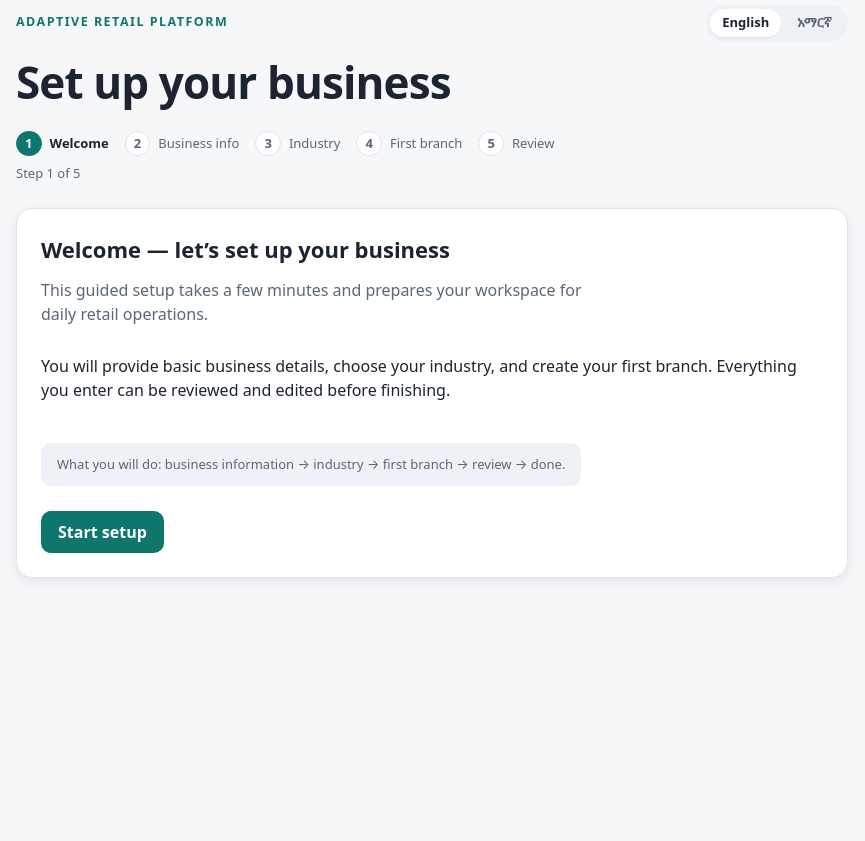
Test: OnboardingPage › accepts a valid optional phone and email
Click the button "Start setup": (102, 532) 41,511 -> 164,553
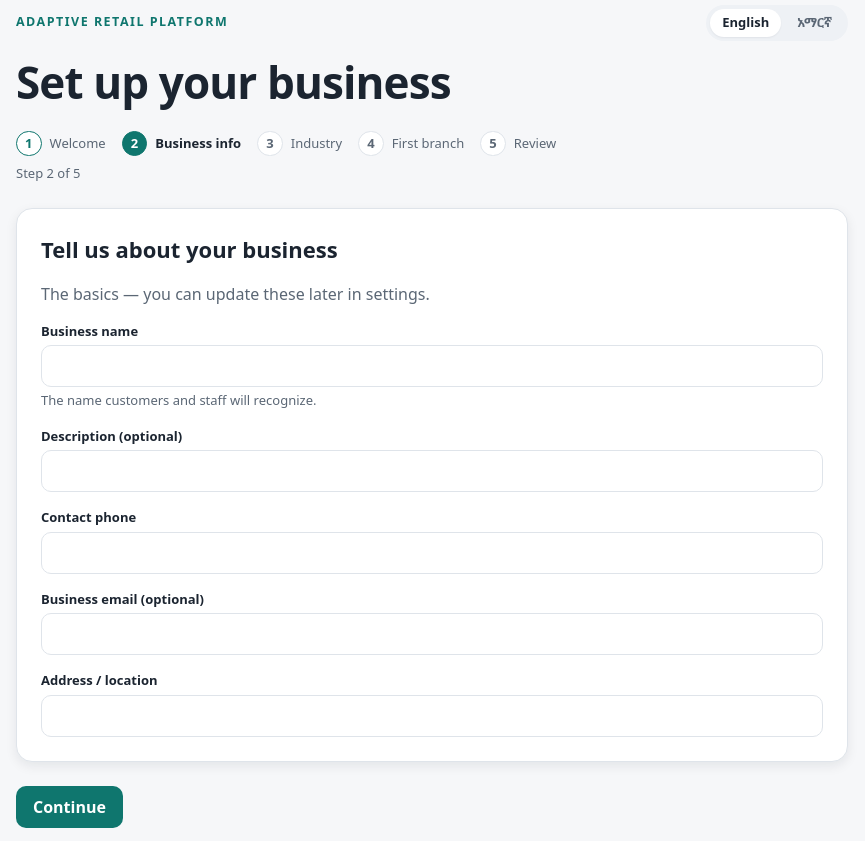
In the field labelled "Business name": (432, 366) 41,345 -> 823,387, type "Valid Name"
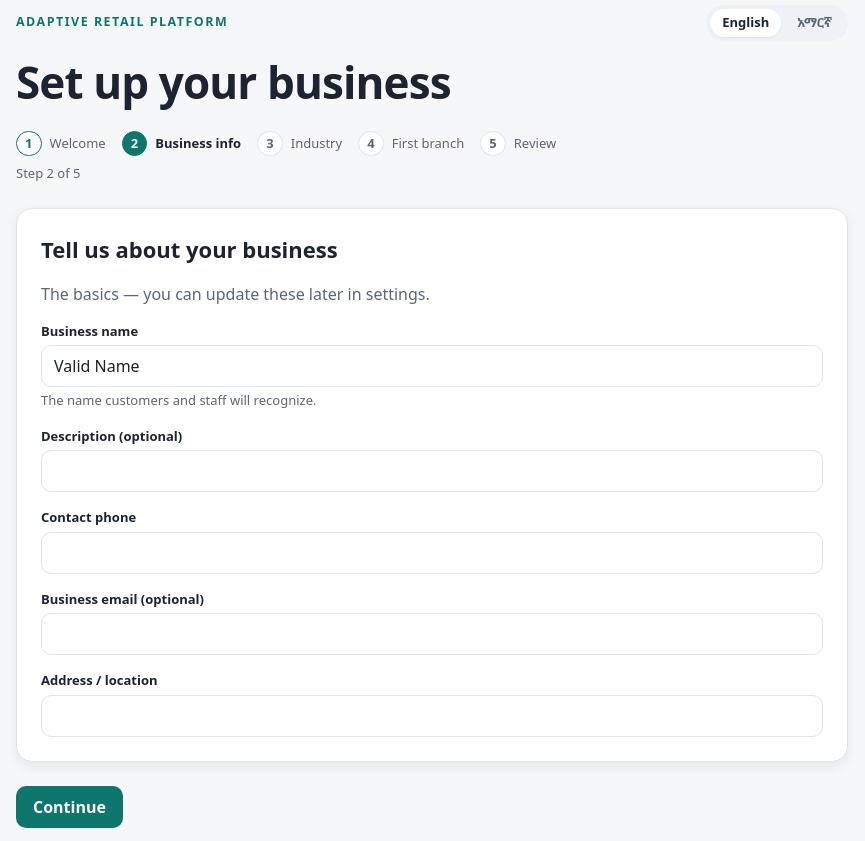
In the field labelled "Contact phone": (432, 553) 41,532 -> 823,574, type "+251 911 234 567"
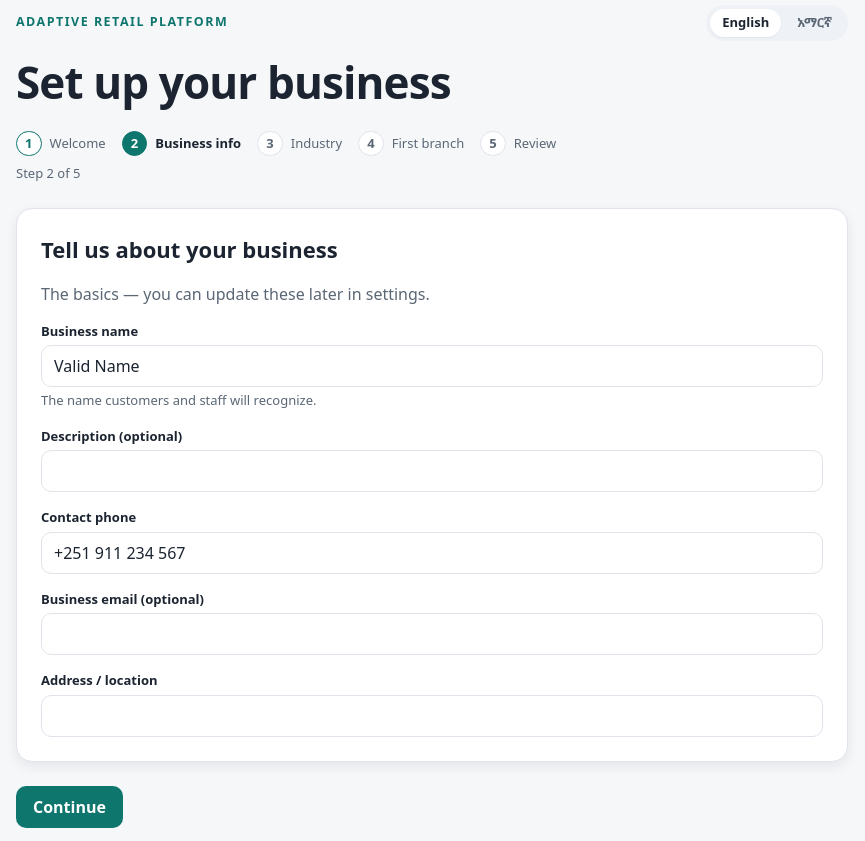
In the field labelled "Business email (optional)": (432, 634) 41,613 -> 823,655, type "owner@example.com"
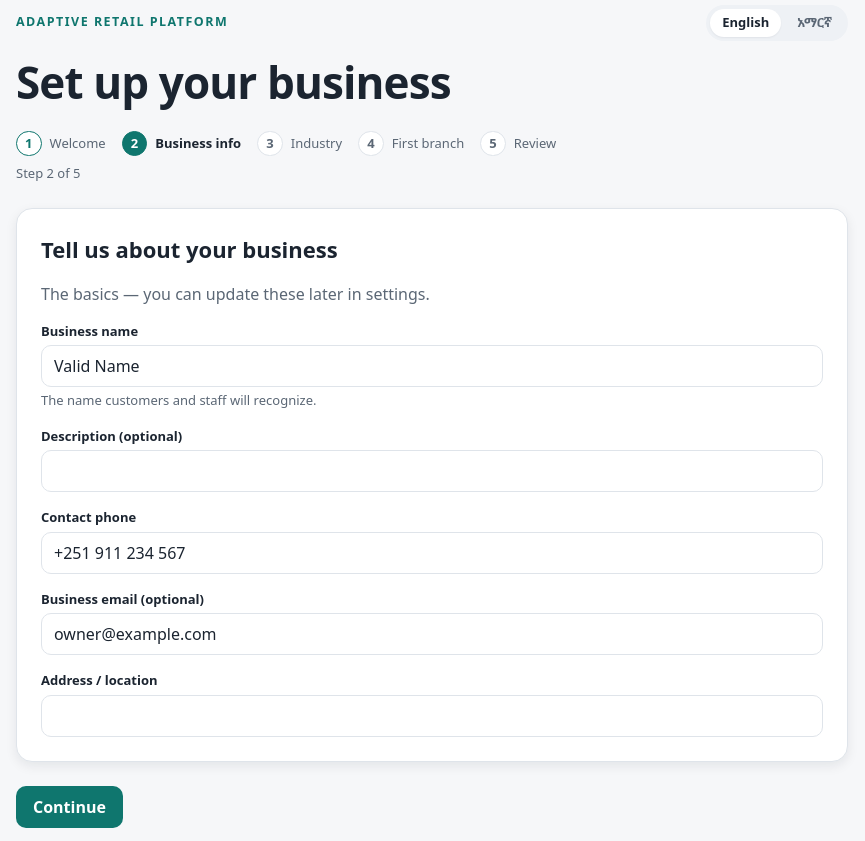
Click the button "Continue": (69, 807) 16,786 -> 123,828
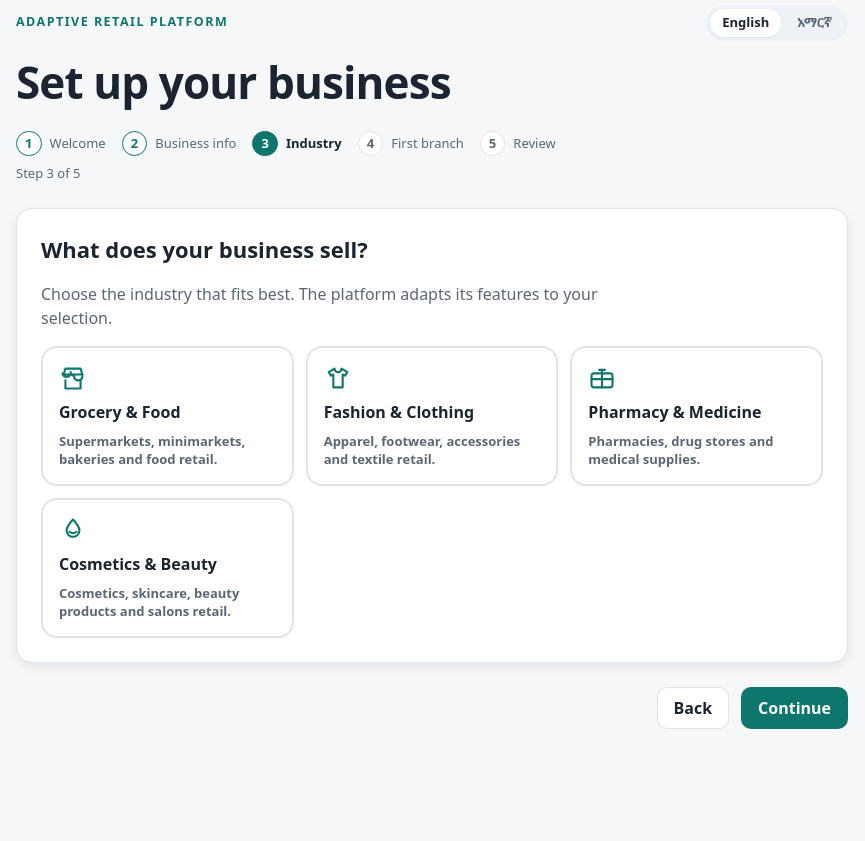
Expected: the button "Grocery & Food" is shown, 41,346 -> 294,486
